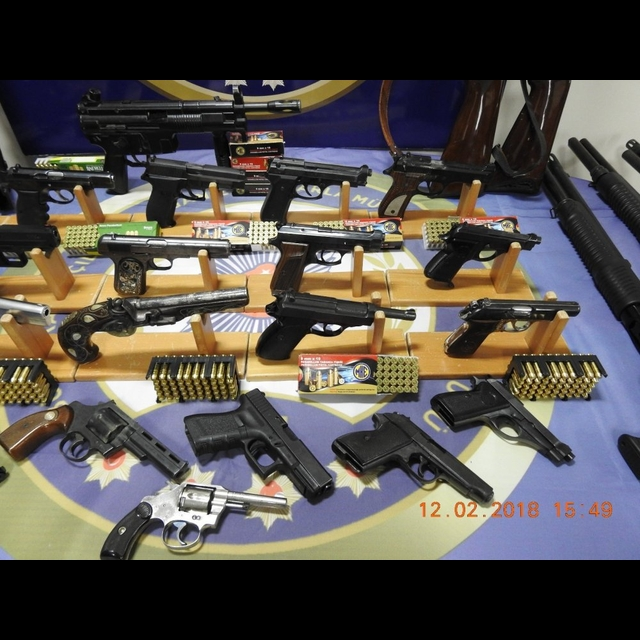SILAH: (166, 395, 334, 504), (327, 408, 497, 509), (438, 374, 579, 467), (420, 205, 555, 284), (260, 294, 419, 361), (454, 290, 583, 363), (136, 152, 251, 229), (258, 148, 372, 224), (260, 221, 387, 289)
